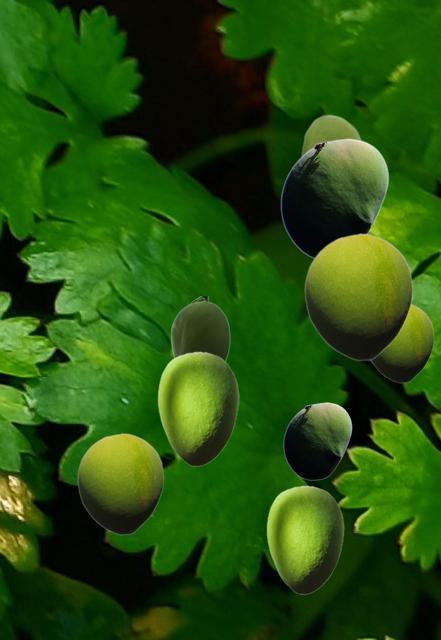green_mango: (304, 233, 412, 360), (280, 138, 388, 258), (157, 351, 238, 465), (77, 433, 163, 534), (266, 485, 343, 593), (283, 402, 351, 479), (371, 304, 433, 382), (170, 296, 229, 361), (301, 114, 361, 155)
